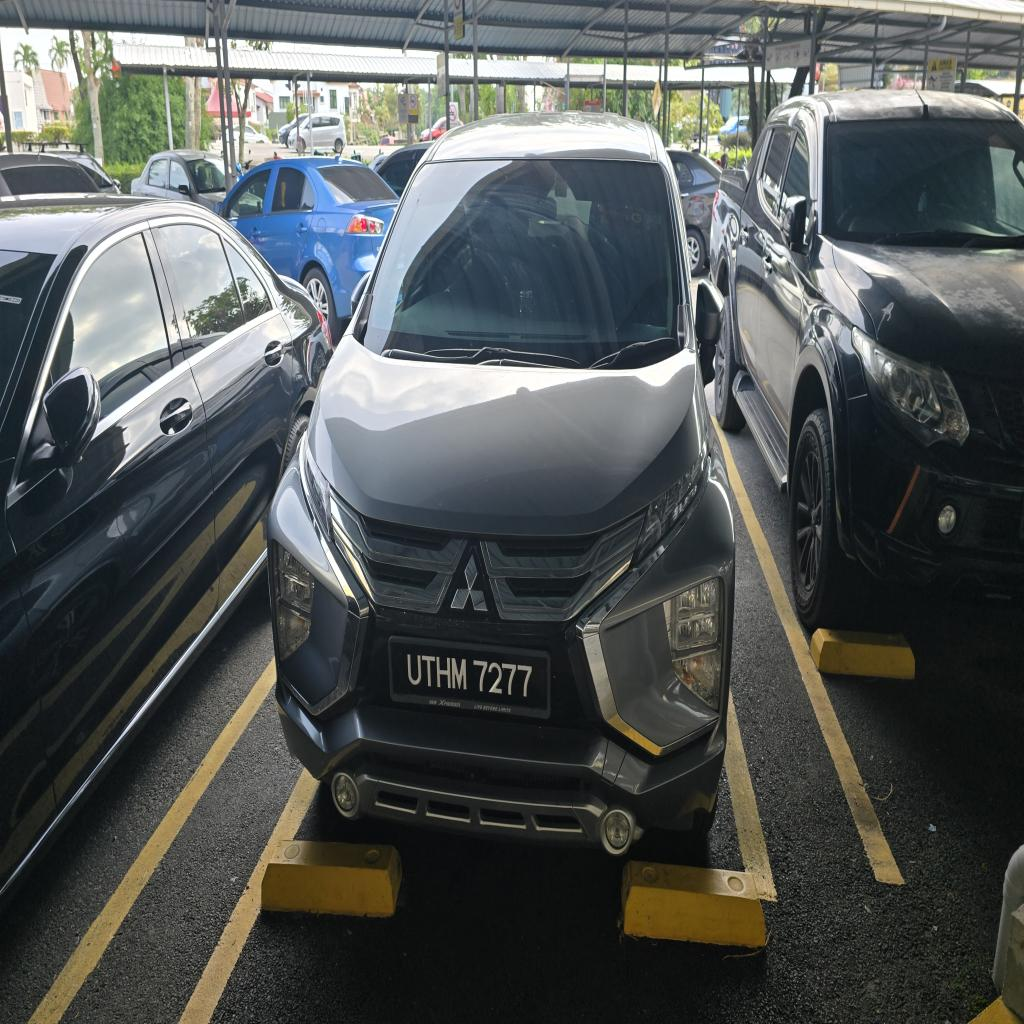car: (269, 114, 734, 854)
car plate: (389, 638, 550, 718)
